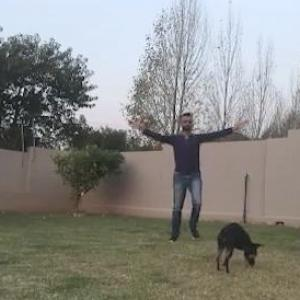takeoff: (134, 110, 255, 248)
